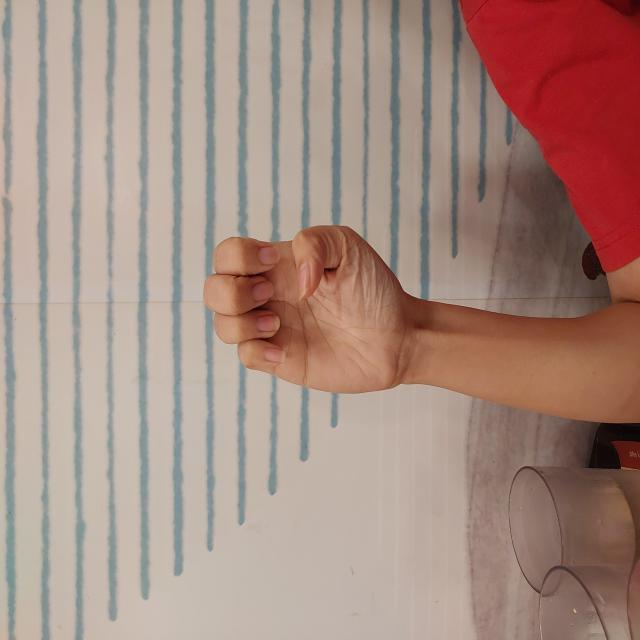E: (245, 202, 419, 412)
